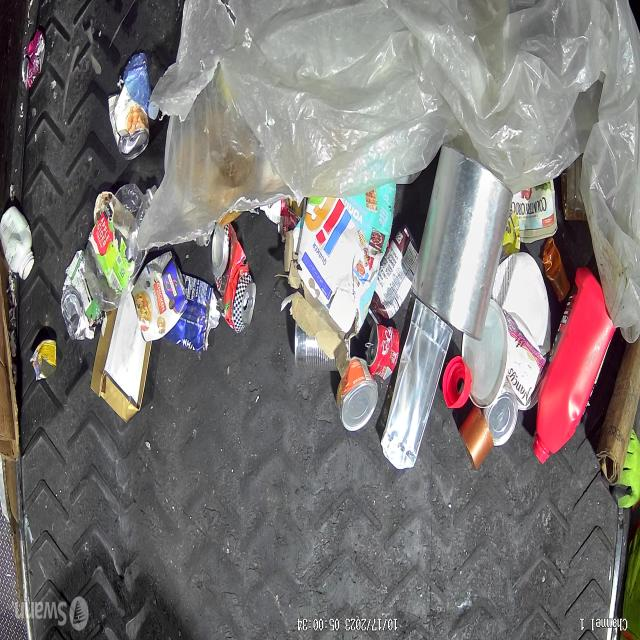can: (131, 252, 190, 342), (211, 221, 257, 334), (60, 248, 103, 340), (339, 350, 384, 432), (294, 321, 351, 374), (108, 92, 151, 162), (368, 316, 404, 376), (22, 27, 46, 92)
non_white_jug: (532, 264, 611, 460)
